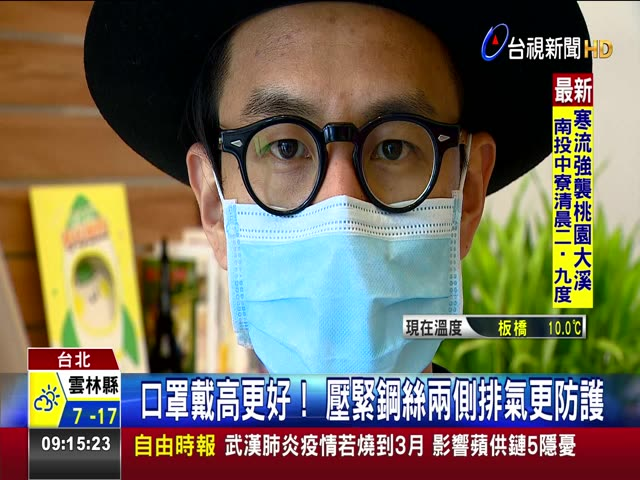Mask: (206, 17, 502, 386)
